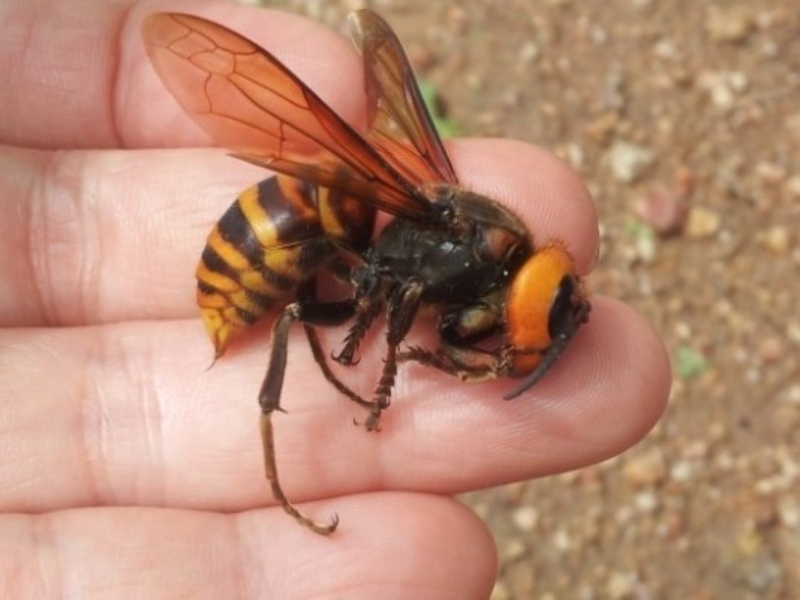asian_giant_hornet: (157, 9, 593, 434)
